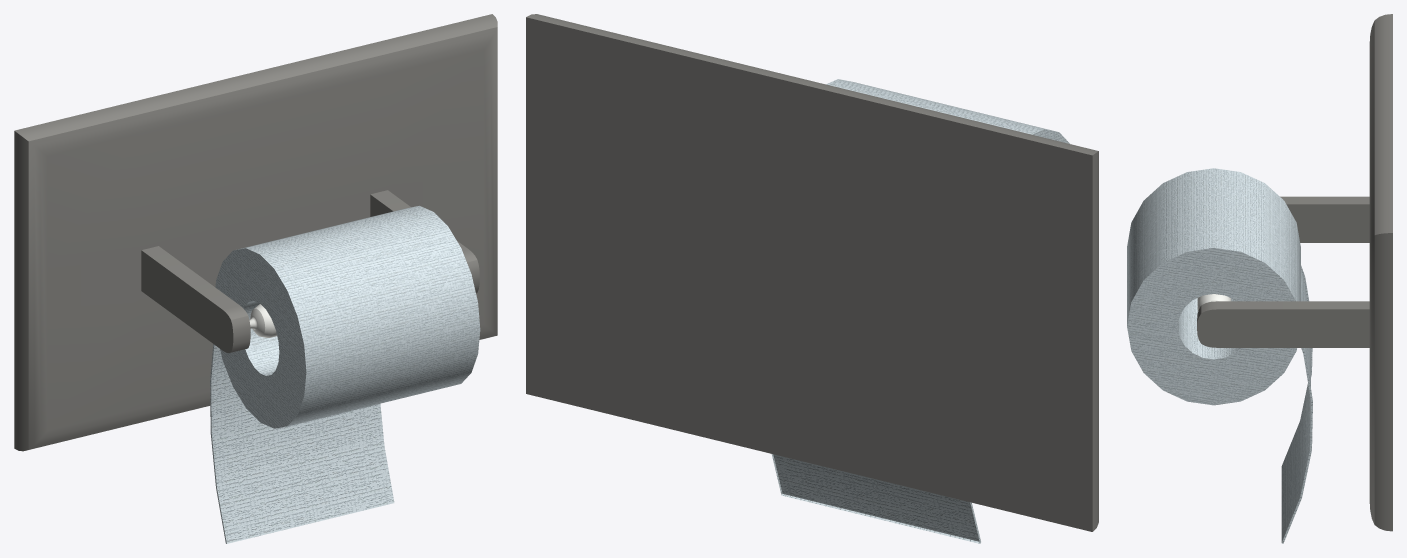
File: ToiletRollAndHolder.FBX
3 renders of one model, left to right at view 1: azimuth 30°, elevation 25°; view 2: azimuth 150°, elevation 25°; view 3: azimuth 270°, elevation 25°, orthographic. The views are drawn at different scales.
Visible parts, largest first — view 1: Box001, Tube001, Plane001, Cylinder001; view 2: Box001, Plane001, Tube001; view 3: Tube001, Box001, Plane001.
Boxes of the visible parts, box(x1,y1,x2,y2) form: Box001: box(14, 14, 497, 451); Tube001: box(215, 205, 480, 428); Plane001: box(210, 344, 394, 543); Cylinder001: box(249, 304, 276, 337); Box001: box(526, 14, 1098, 531); Plane001: box(771, 454, 980, 543); Tube001: box(826, 79, 1069, 143); Tube001: box(1127, 168, 1300, 405); Box001: box(1197, 14, 1392, 531); Plane001: box(1281, 265, 1312, 543).
Size of the model in its own units: 30.02 by 24.48 by 15.41.
3 materials, 3 textured.
